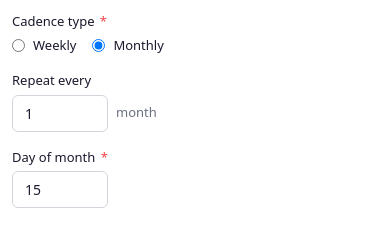
Scenario: RecurringSection — switching cadence type › shows day picker after switching to Weekly
Click the radio button labelled "Weekly" at {"x": 18, "y": 45}, box [12, 39, 25, 52]
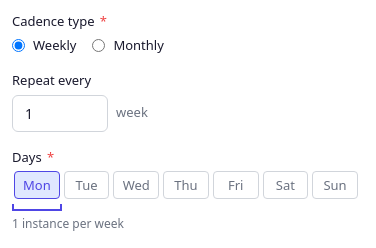
Expected: the element with class "day-picker" is shown, [12, 171, 360, 211]
